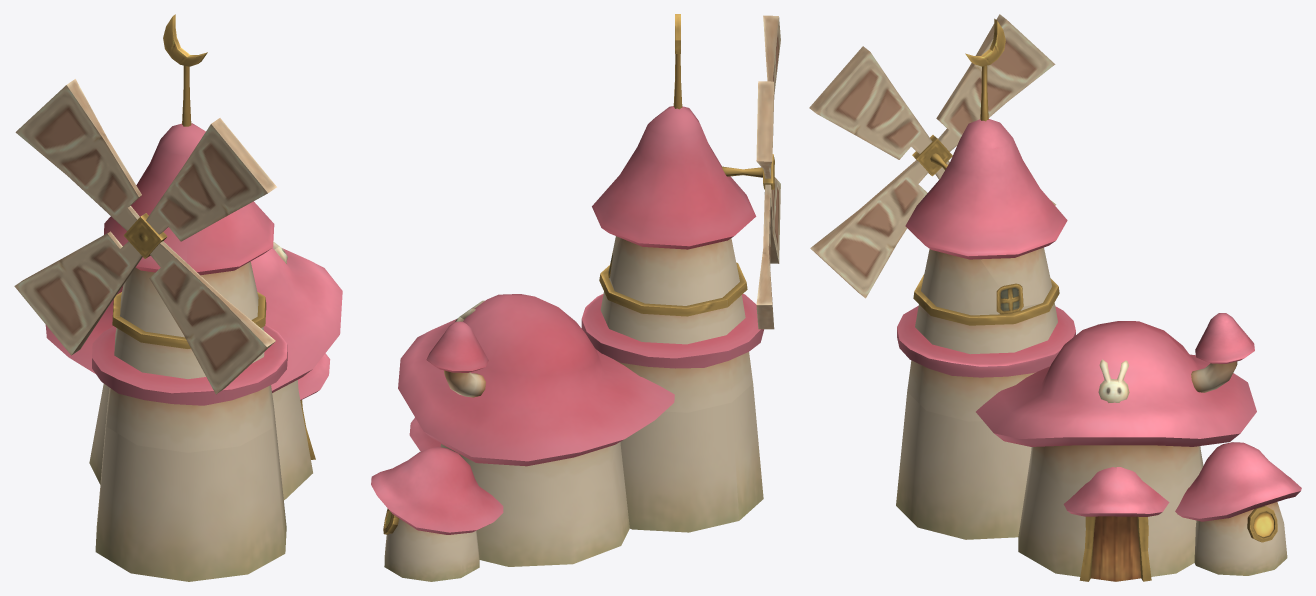
The model's file is tuzihouse_L2.fbx.
The picture shows the model from 3 angles, left to right: view 1: azimuth 30°, elevation 25°; view 2: azimuth 150°, elevation 25°; view 3: azimuth 270°, elevation 25°; orthographic projection. The views are drawn at different scales.
Parts seen in each view (by area): view 1: tuzi_fangp1_l2, tuzi_fangp2_l2; view 2: tuzi_fangp1_l2, tuzi_fangp2_l2; view 3: tuzi_fangp1_l2, tuzi_fangp2_l2.
Boxes of the visible parts, x1,y1,x2,y2 form: tuzi_fangp1_l2: (45, 14, 342, 581); tuzi_fangp2_l2: (14, 79, 276, 394); tuzi_fangp1_l2: (371, 14, 763, 581); tuzi_fangp2_l2: (721, 15, 780, 329); tuzi_fangp1_l2: (896, 18, 1301, 581); tuzi_fangp2_l2: (809, 14, 1056, 298).
Size of the model in its own units: 90.03 by 130 by 122.
